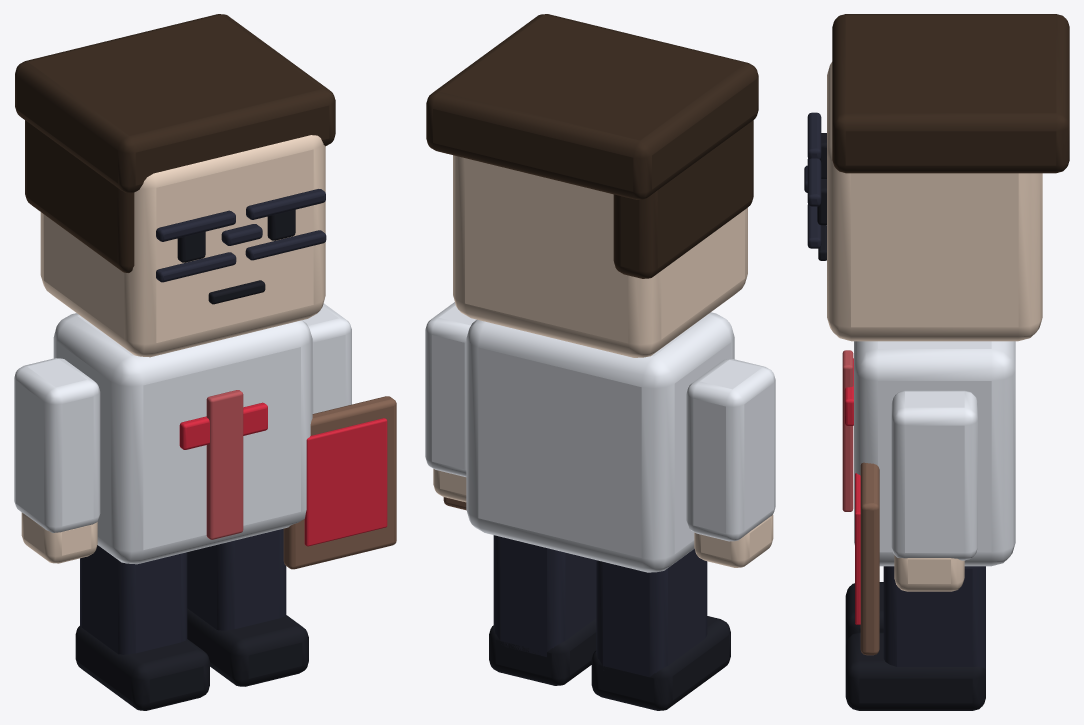
The model's file is manager.glb.
The picture shows the model from 3 angles, left to right: view 1: azimuth 30°, elevation 25°; view 2: azimuth 150°, elevation 25°; view 3: azimuth 270°, elevation 25°; orthographic projection. The views are drawn at different scales.
Visible parts, largest first — view 1: Jacket, Hair, Face, Arm_L_sleeve, Leg_L_trouser, Screen, HairSide, Leg_R_trouser, Leg_L_shoe, Leg_R_shoe, Tablet, Tie (+11 smaller); view 2: Jacket, Hair, Face, Arm_L_sleeve, HairSide, Leg_L_trouser, Leg_R_trouser, Arm_R_sleeve, Leg_L_shoe, Leg_R_shoe, Arm_L_hand, Arm_R_hand; view 3: Hair, Face, Jacket, Arm_R_sleeve, Leg_R_trouser, Leg_R_shoe, Tablet, Arm_R_hand, Tie, Screen, Leg_L_shoe, GlassesTop.001 (+2 smaller).
Boxes of the visible parts, bbox=[...] form: Jacket: bbox=[53, 313, 312, 564]; Hair: bbox=[15, 14, 335, 193]; Face: bbox=[40, 135, 325, 357]; Arm_L_sleeve: bbox=[14, 358, 100, 532]; Leg_L_trouser: bbox=[80, 545, 187, 654]; Screen: bbox=[304, 418, 387, 546]; HairSide: bbox=[25, 120, 134, 272]; Leg_R_trouser: bbox=[187, 528, 286, 630]; Leg_L_shoe: bbox=[75, 625, 209, 710]; Leg_R_shoe: bbox=[187, 608, 308, 686]; Tablet: bbox=[283, 396, 396, 569]; Tie: bbox=[206, 390, 243, 539]; Jacket: bbox=[466, 312, 734, 572]; Hair: bbox=[426, 14, 758, 199]; Face: bbox=[453, 155, 747, 357]; Arm_L_sleeve: bbox=[686, 359, 775, 541]; HairSide: bbox=[613, 120, 753, 278]; Leg_L_trouser: bbox=[596, 549, 707, 677]; Leg_R_trouser: bbox=[493, 535, 596, 656]; Arm_R_sleeve: bbox=[425, 302, 476, 476]; Leg_L_shoe: bbox=[591, 616, 730, 710]; Leg_R_shoe: bbox=[489, 618, 596, 685]; Arm_L_hand: bbox=[694, 514, 773, 567]; Arm_R_hand: bbox=[433, 469, 466, 502]; Hair: bbox=[832, 14, 1069, 173]; Face: bbox=[827, 62, 1042, 341]; Jacket: bbox=[854, 341, 1015, 566]; Arm_R_sleeve: bbox=[891, 390, 977, 560]; Leg_R_trouser: bbox=[883, 566, 985, 669]; Leg_R_shoe: bbox=[845, 632, 985, 710]; Tablet: bbox=[860, 462, 879, 655]; Arm_R_hand: bbox=[894, 555, 964, 591]; Tie: bbox=[842, 350, 853, 511]; Screen: bbox=[855, 473, 860, 624]; Leg_L_shoe: bbox=[845, 582, 883, 644]; GlassesTop.001: bbox=[807, 158, 821, 206].
Size of the model in its own units: 0.74 by 1.24 by 0.492.
